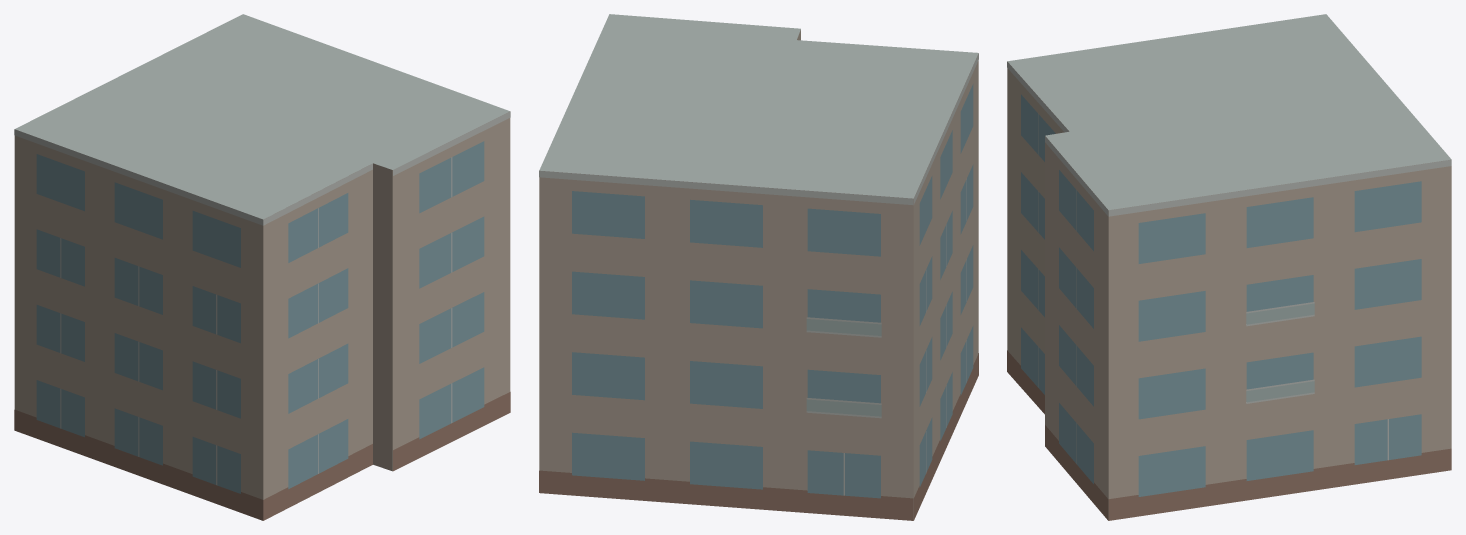
File: survey-upis-32709774.glb
The picture shows the model from 3 angles, left to right: view 1: azimuth 30°, elevation 25°; view 2: azimuth 150°, elevation 25°; view 3: azimuth 270°, elevation 25°; orthographic projection. The views are drawn at different scales.
Parts seen in each view (by area): view 1: survey-upis-32709774.tmp; view 2: survey-upis-32709774.tmp; view 3: survey-upis-32709774.tmp.
Part boxes in pixels (x1,y1,x2,y2): survey-upis-32709774.tmp: (14, 14, 510, 520); survey-upis-32709774.tmp: (539, 14, 978, 520); survey-upis-32709774.tmp: (1007, 14, 1451, 520).
Size of the model in its own units: 16 by 11.8 by 15.31.
